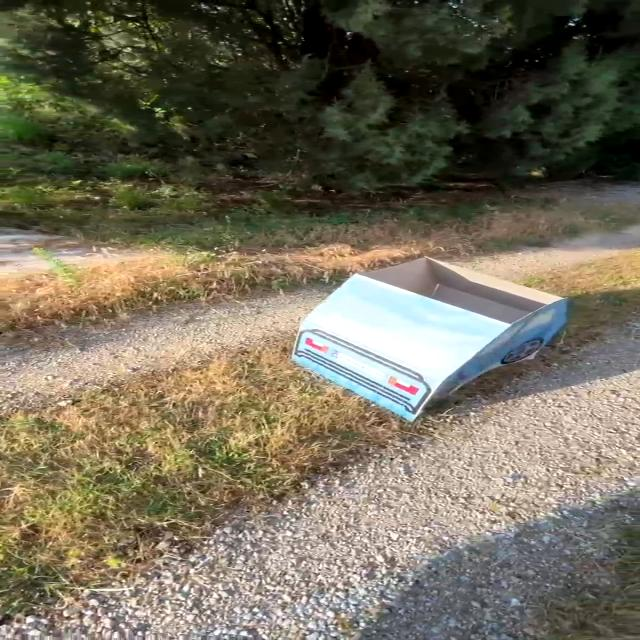blue_car: (285, 241, 600, 441)
